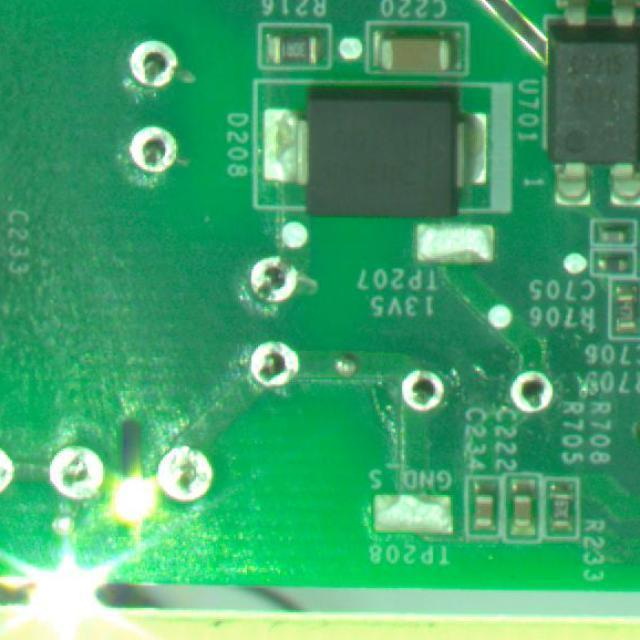Insufficient solder: (33, 418, 119, 505), (155, 433, 223, 514), (386, 352, 460, 420), (115, 114, 186, 184), (231, 333, 309, 391), (240, 248, 304, 314), (106, 42, 186, 92), (501, 360, 558, 424), (0, 431, 18, 504)
